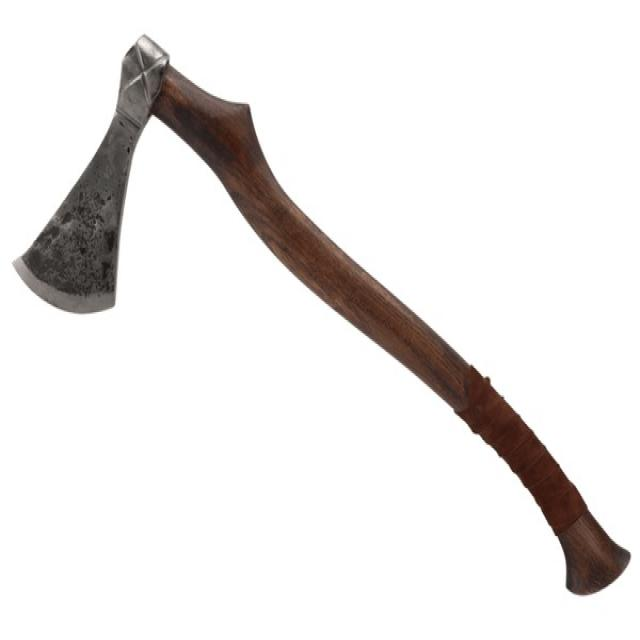Gun: (6, 23, 634, 611)
